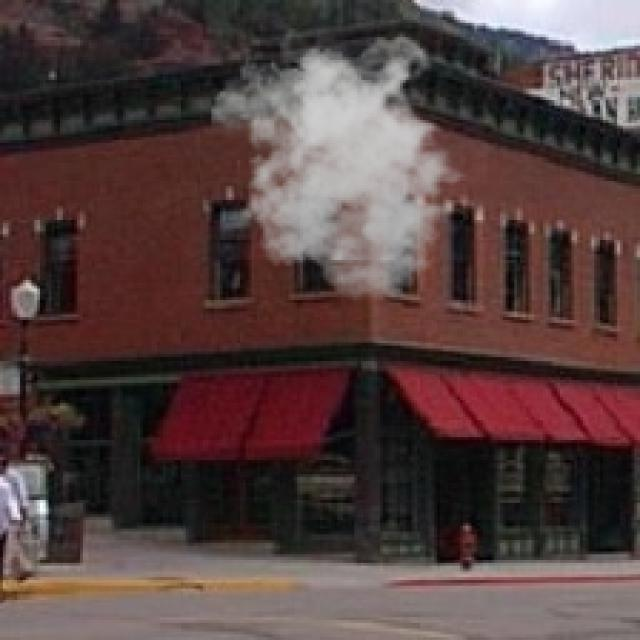smoke: (212, 29, 477, 300)
